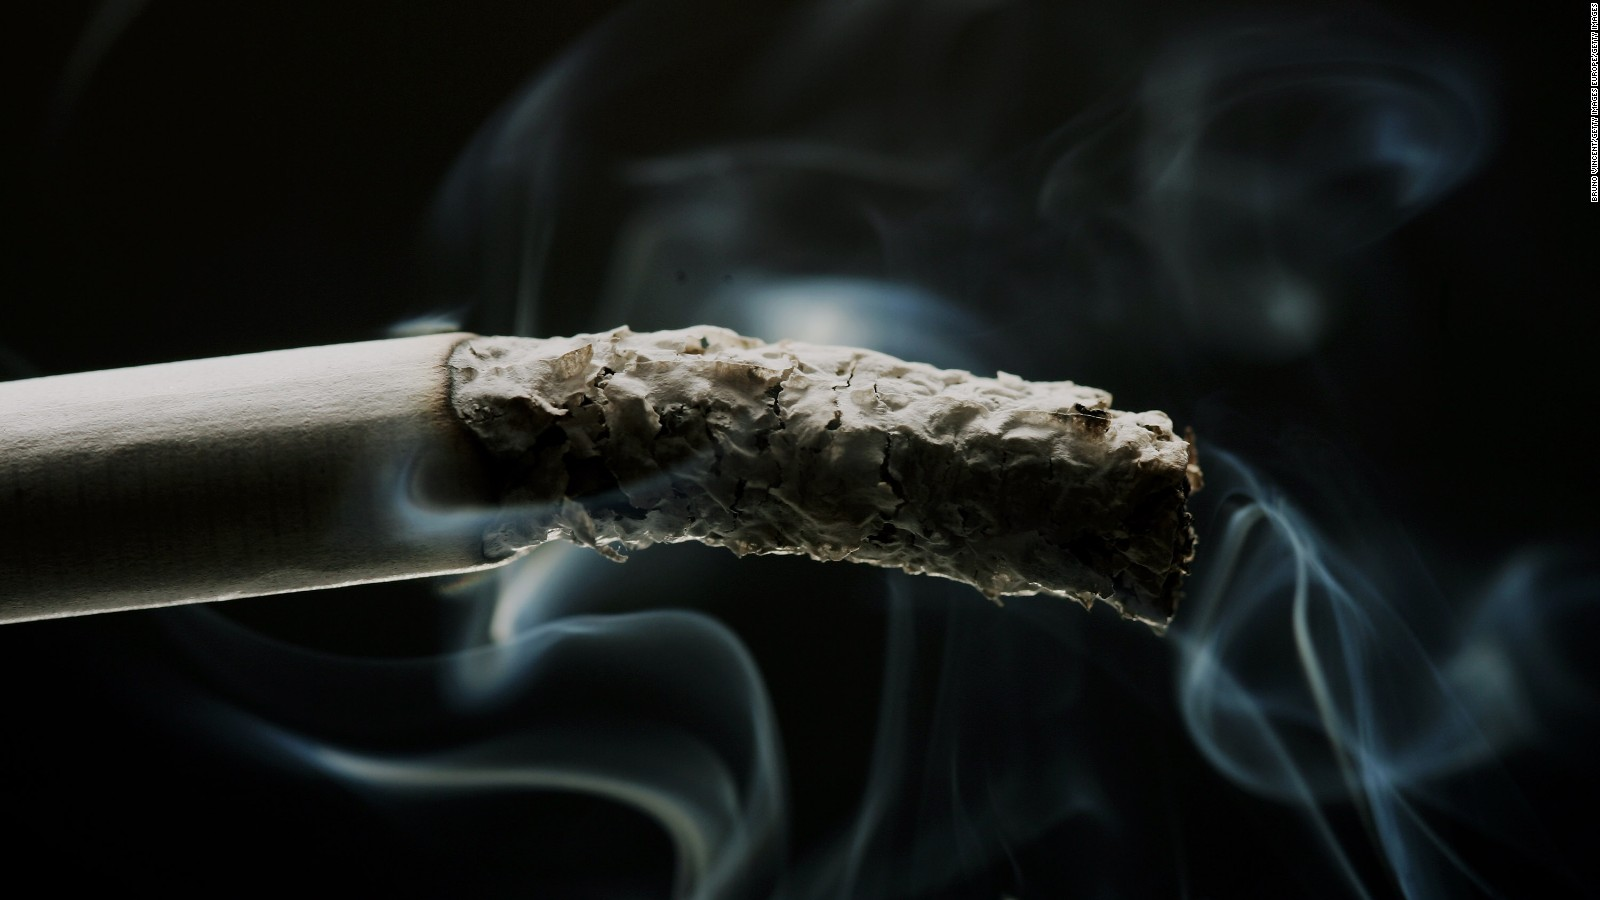cigarette: (18, 313, 1273, 753)
